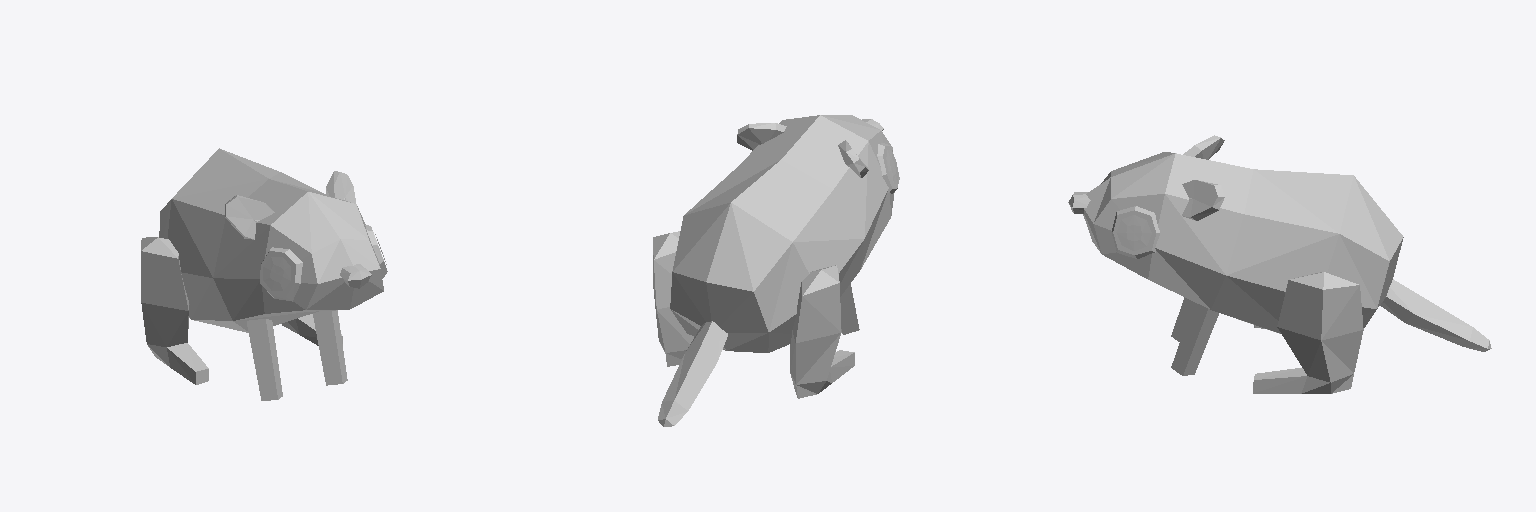
File: Muskrat_LOD3.obj
3 views of the same model, side by side, from view 1: azimuth 30°, elevation 25°; view 2: azimuth 150°, elevation 25°; view 3: azimuth 270°, elevation 25° (orthographic).
Visible parts, largest first — view 1: Mesh_Muskrat_LOD3; view 2: Mesh_Muskrat_LOD3; view 3: Mesh_Muskrat_LOD3.
Boxes of the visible parts, box(x1,y1,x2,y2) form: Mesh_Muskrat_LOD3: box(141, 148, 387, 400); Mesh_Muskrat_LOD3: box(653, 115, 899, 426); Mesh_Muskrat_LOD3: box(1068, 135, 1491, 393).
Bounding box in the file's own units: 0.4798 × 0.5001 × 0.9344.